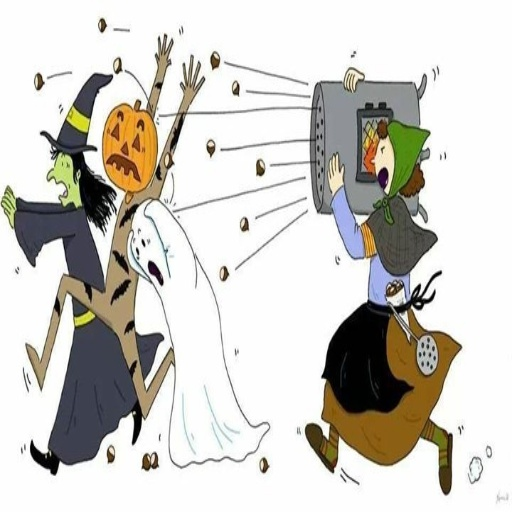hand: (177, 51, 204, 104), (152, 29, 174, 73), (325, 149, 343, 193), (342, 65, 364, 95), (0, 193, 15, 227), (2, 182, 15, 210)
